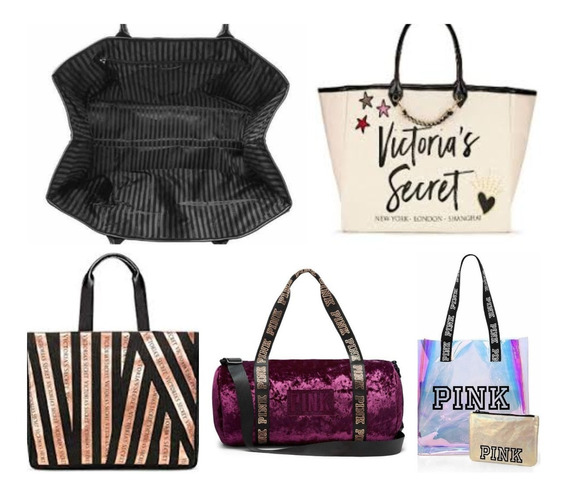cartera: (316, 23, 538, 235), (25, 252, 200, 472), (211, 268, 405, 458), (415, 253, 532, 459)
